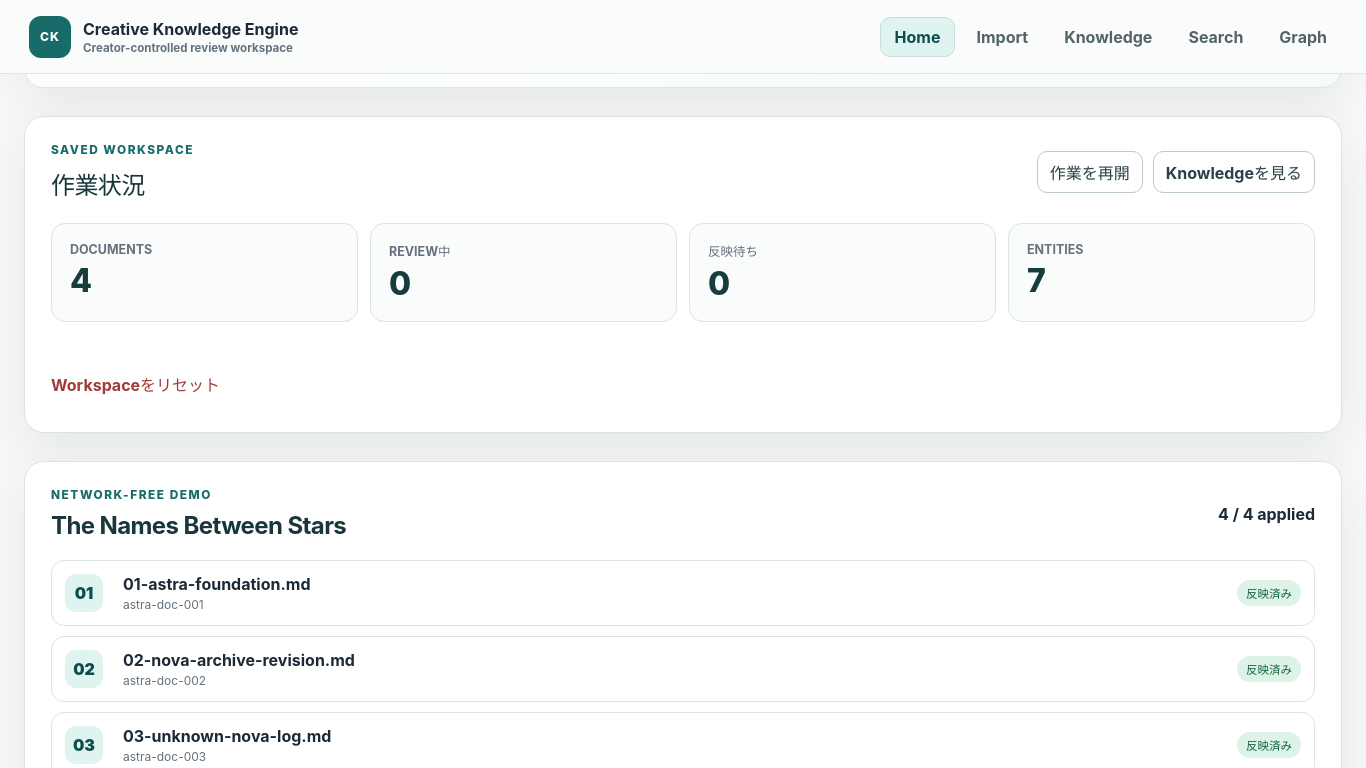
Test: App › requires explicit confirmation before resetting a saved workspace
This screenshot has width=1366, height=768.
(page scrolled)
Click the button "Workspaceをリセット" at [143, 384], box [51,362,235,406]
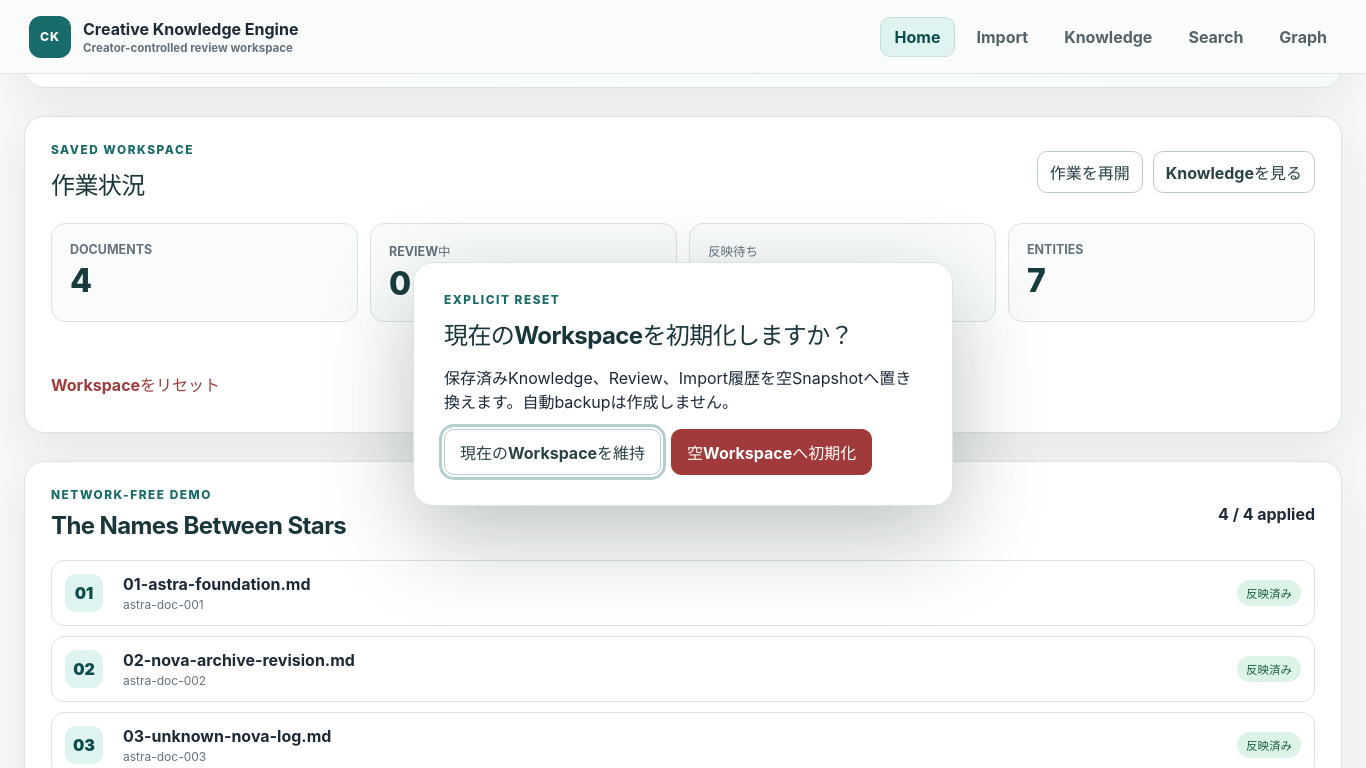
Check: the dialog "現在のWorkspaceを初期化しますか？" is shown, box [413,262,953,506]
Click the button "現在のWorkspaceを維持" at [553, 452], box [444,429,661,475]
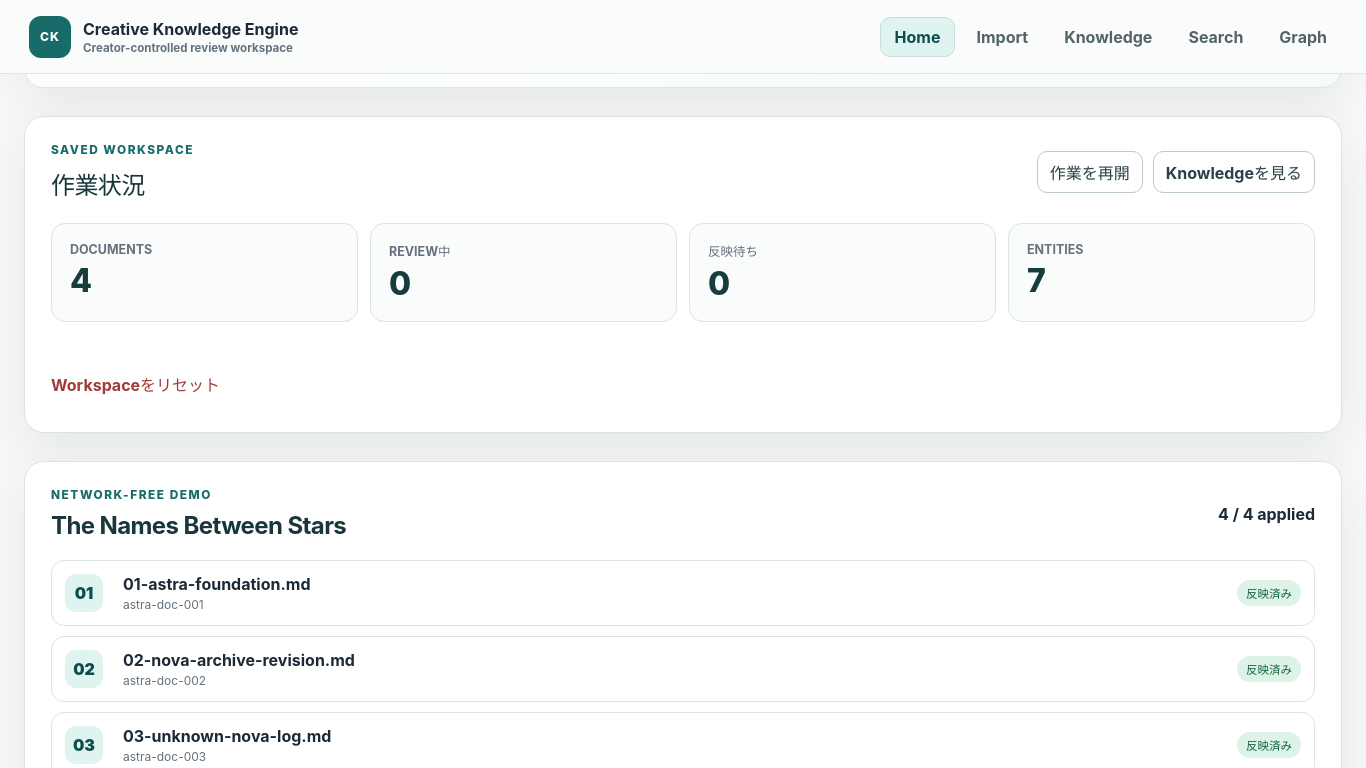
Check: the dialog is gone
